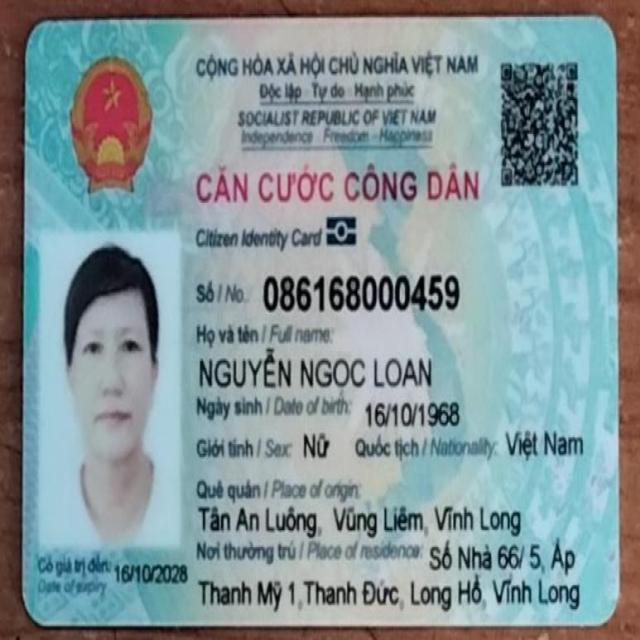current_place: (196, 568, 584, 615), (427, 532, 580, 575)
dob: (361, 394, 462, 430)
expire_date: (112, 558, 190, 588)
gender: (301, 424, 329, 461)
id: (259, 275, 463, 313)
name: (196, 346, 438, 399)
nationality: (500, 424, 587, 466)
origin_place: (197, 497, 524, 540)
